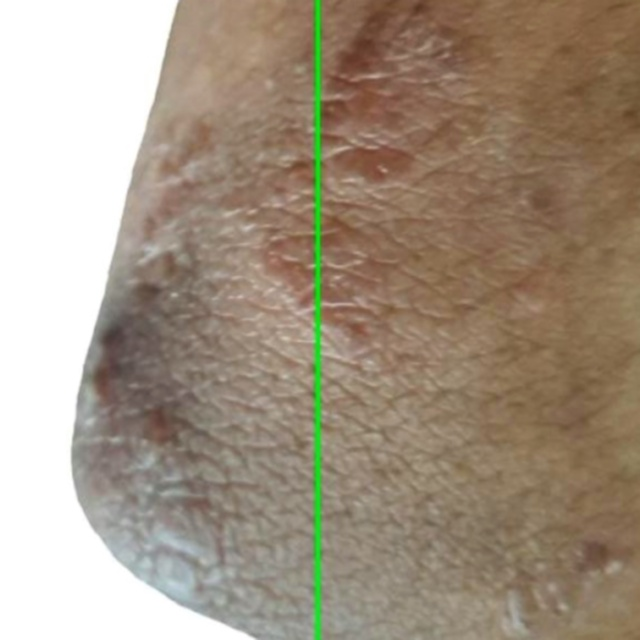Tinea Corporis: (0, 0, 318, 639)
